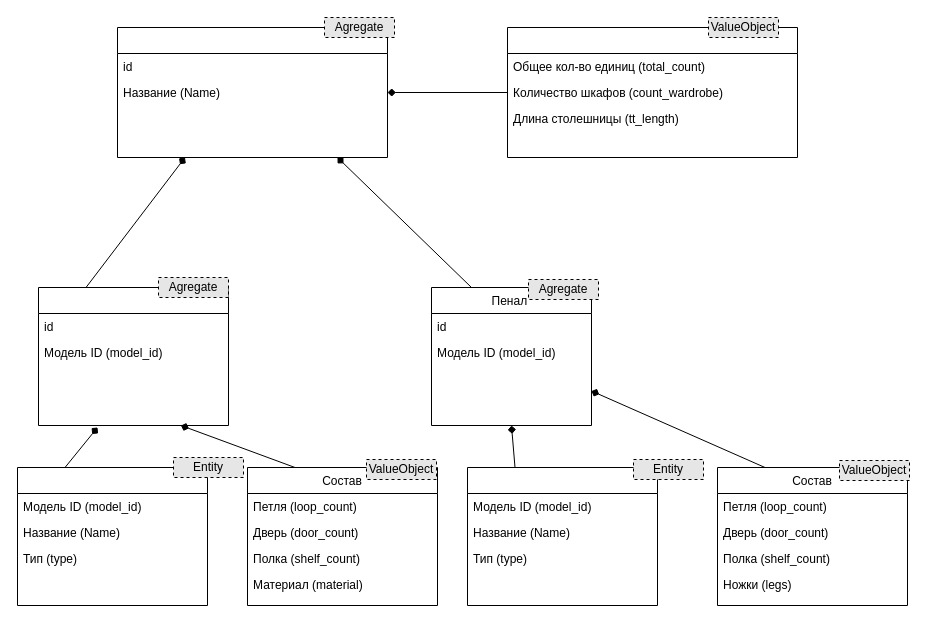
Image size: 927x623. Some labels were removed from this diagram. Here are the shapes that lost their labels. From the top down, the box of each, then its label:
(116, 26, 388, 158): Кухонный гарнитур
(506, 26, 798, 158): Состав гарнитура
(38, 286, 228, 426): Шкафчик
(16, 466, 208, 606): Шкафчик навесной
(466, 466, 658, 606): Пенал двустворчатый
